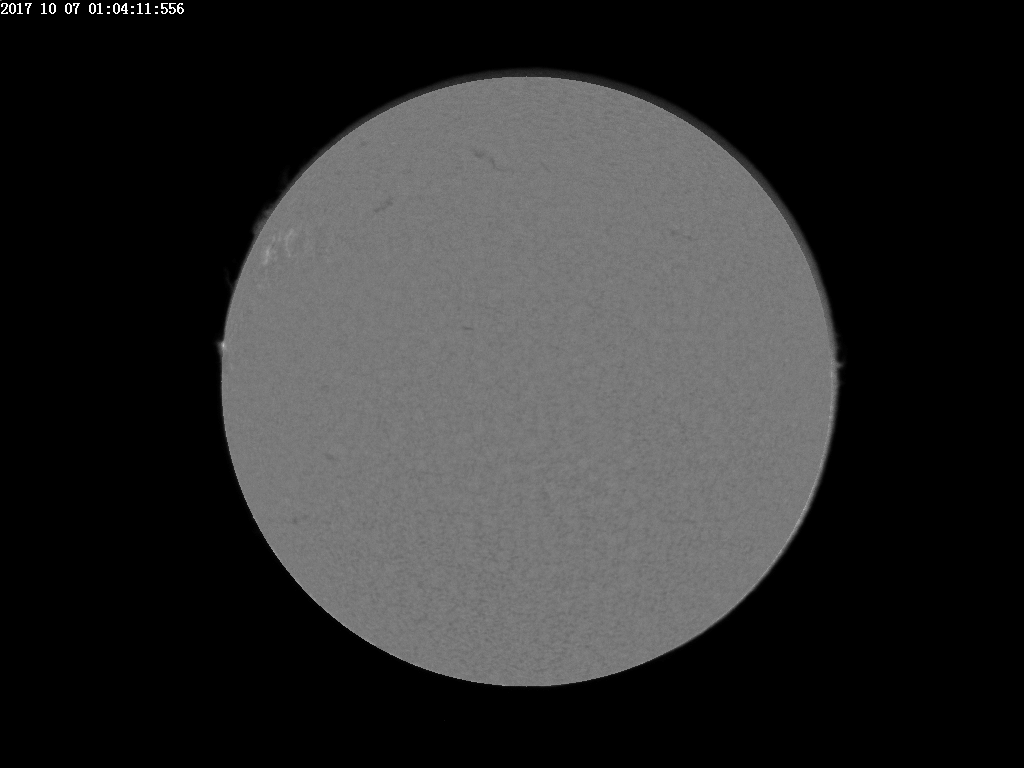filament: (460, 137, 516, 179), (367, 189, 404, 218), (660, 217, 697, 244), (318, 446, 344, 466), (454, 319, 477, 333), (282, 511, 306, 522)
